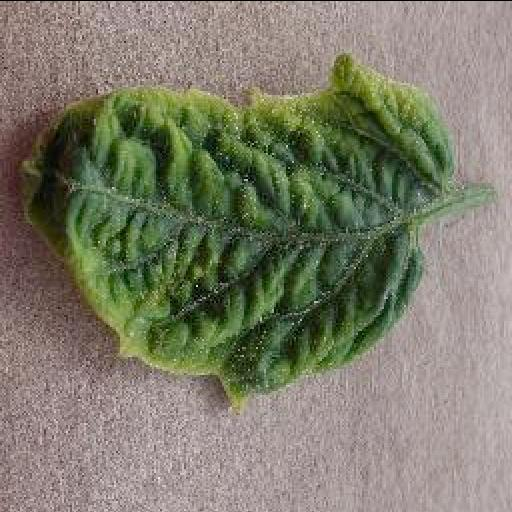disease_tomato: (20, 52, 458, 416)
